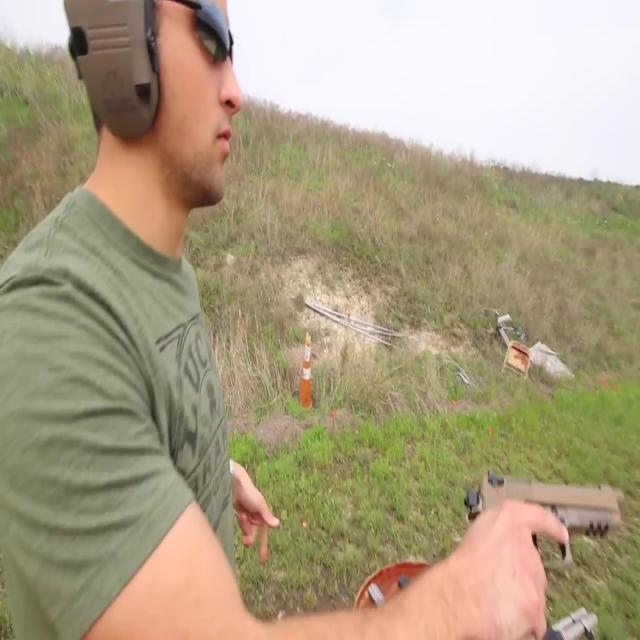Weapon: (411, 425, 640, 640)
